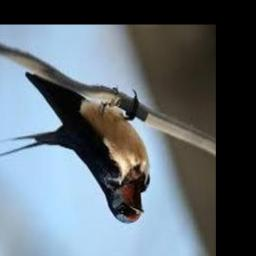Swallow: (0, 72, 150, 225)
